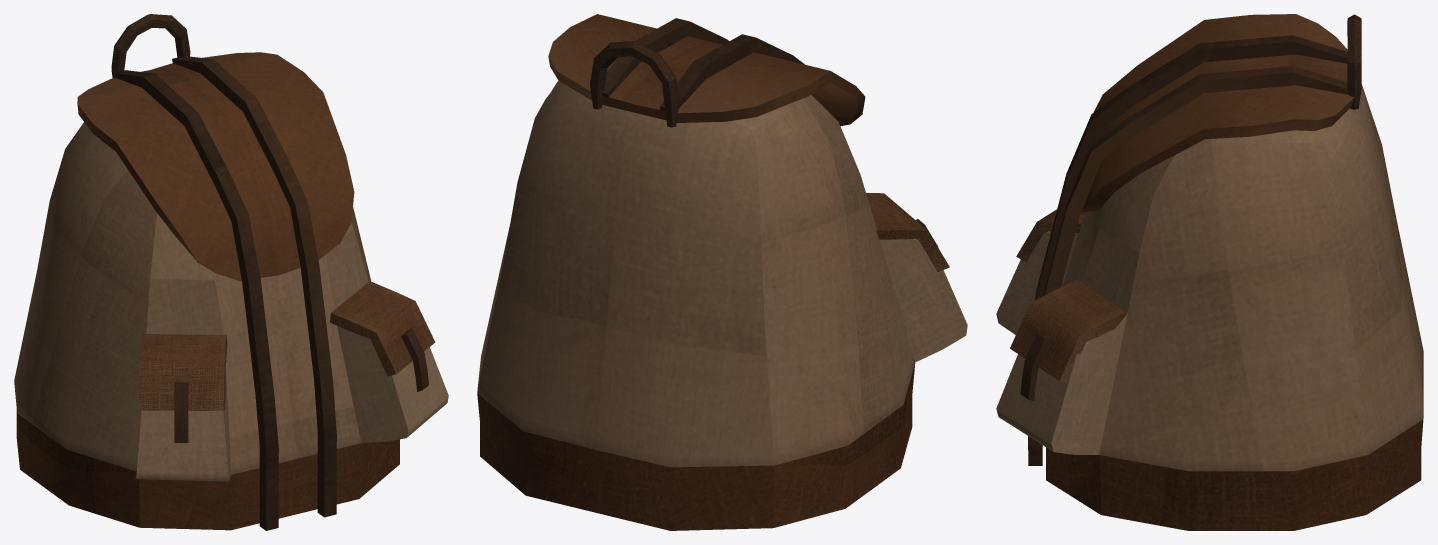
File: Bag.fbx
The picture shows the model from 3 angles, left to right: view 1: azimuth 30°, elevation 25°; view 2: azimuth 150°, elevation 25°; view 3: azimuth 270°, elevation 25°; orthographic projection. The views are drawn at different scales.
Visible parts, largest first — view 1: body, lid_big, lid_small, handle; view 2: body, lid_big, handle, lid_small; view 3: body, lid_big, lid_small, handle.
Boxes of the visible parts, x1,y1,x2,y2 form: body: (14, 122, 448, 530); lid_big: (77, 52, 354, 530); lid_small: (139, 281, 435, 442); handle: (111, 14, 190, 78); body: (477, 81, 967, 530); lid_big: (548, 14, 865, 126); handle: (590, 41, 678, 127); lid_small: (866, 193, 949, 271); body: (996, 84, 1423, 530); lid_big: (1028, 14, 1354, 465); lid_small: (1010, 209, 1126, 400); handle: (1347, 14, 1361, 109).
Bounding box in the file's own units: 12.07 × 14.13 × 12.74.
1 material, 1 textured.
